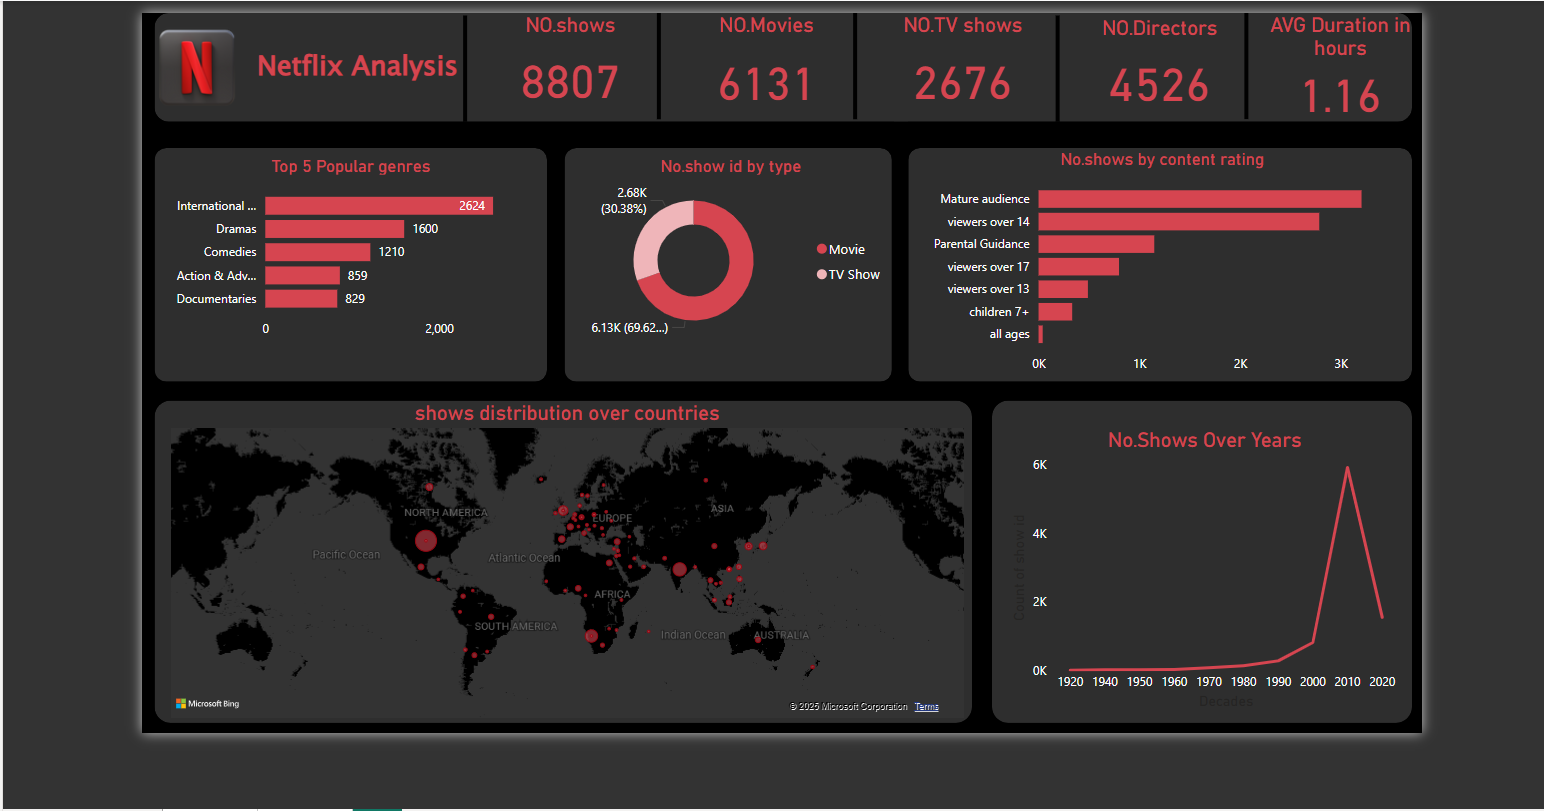

What the dashboard file says about the page in this screenshot:
{"tool":"powerbi","page":{"name":"Page 1","canvas":[1280,720],"ordinal":0},"visuals":[{"type":"shape","box":[12.5,0,1257.5,108.8],"z":0},{"type":"shape","box":[12.5,135,392.5,233.8],"z":1000},{"type":"shape","box":[422.5,135,327.5,233.8],"z":2000},{"type":"shape","box":[766.2,135,503.8,233.8],"z":3000},{"type":"shape","box":[12.5,387.5,817.5,322.5],"z":4000},{"type":"shape","box":[850,387.5,420,322.5],"z":5000},{"type":"image","box":[0,0,110,108.8],"z":6000},{"type":"textbox","box":[110,27.5,251.2,55],"z":7000},{"type":"shape","box":[311.2,2.5,23.8,106.2],"z":8000},{"type":"shape","box":[505,0,23.8,106.2],"z":9000},{"type":"shape","box":[701.2,0,23.8,106.2],"z":10000},{"type":"shape","box":[903.8,2.5,23.8,106.2],"z":11000},{"type":"shape","box":[1092.5,0,23.8,106.2],"z":12000},{"type":"card","title":"NO.shows ","fields":{"Values":["CountNonNull(netflix_titles.show id)"]},"box":[351.2,0,153.8,103.8],"z":13000},{"type":"card","title":"NO.Movies ","fields":{"Values":["netflix_titles.movie"]},"box":[547.5,0,153.8,108.8],"z":14000},{"type":"card","title":"NO.TV shows ","fields":{"Values":["netflix_titles.shows"]},"box":[737.5,0,166.2,106.2],"z":15000},{"type":"card","title":"AVG Duration in hours  ","fields":{"Values":["Avg(netflix_titles.duration in hours)"]},"box":[1116.2,0,163.8,108.8],"z":16000},{"type":"card","title":"NO.Directors ","fields":{"Values":["Count(netflix_titles.director)"]},"box":[945,2.5,145,106.2],"z":17000},{"type":"map","title":"shows distribution over  countries","fields":{"Category":["netflix_titles.country"],"Size":["CountNonNull(netflix_titles.show id)"]},"box":[23.8,387.5,802.5,322.5],"z":18000},{"type":"lineChart","title":"No.Shows Over Years ","fields":{"Y":["CountNonNull(netflix_titles.show id)"],"Category":["netflix_titles.Decades"]},"box":[863.8,415,397.5,286.2],"z":19000},{"type":"clusteredBarChart","title":"Top 5 Popular genres","fields":{"Category":["netflix_titles (2).genres"],"Y":["CountNonNull(netflix_titles (2).show_id)"]},"box":[12.5,142.5,392.5,191.2],"z":20000},{"type":"donutChart","title":" No.show id by type","fields":{"Category":["netflix_titles.type"],"Y":["CountNonNull(netflix_titles.show id)"]},"box":[425,142.5,327.5,191.2],"z":21000},{"type":"barChart","title":"No.shows  by content rating","fields":{"Category":["netflix_titles.content rating"],"Y":["CountNonNull(netflix_titles.show id)"]},"box":[778.8,136.2,482.5,232.5],"z":22000}]}

Visuals, with their boxes on the page's 1280x720 design canvas (x1, y1, x2, y2). These are canvas units, not pixel positions in the 1544x811 screenshot, which may show the page scaled, cropped or inside an application window:
shape: 12, 0, 1270, 109
shape: 12, 135, 405, 369
shape: 422, 135, 750, 369
shape: 766, 135, 1270, 369
shape: 12, 388, 830, 710
shape: 850, 388, 1270, 710
image: 0, 0, 110, 109
textbox: 110, 28, 361, 82
shape: 311, 2, 335, 109
shape: 505, 0, 529, 106
shape: 701, 0, 725, 106
shape: 904, 2, 928, 109
shape: 1092, 0, 1116, 106
"NO.shows " card: 351, 0, 505, 104
"NO.Movies " card: 548, 0, 701, 109
"NO.TV shows " card: 738, 0, 904, 106
"AVG Duration in hours  " card: 1116, 0, 1280, 109
"NO.Directors " card: 945, 2, 1090, 109
"shows distribution over  countries" map: 24, 388, 826, 710
"No.Shows Over Years " lineChart: 864, 415, 1261, 701
"Top 5 Popular genres" clusteredBarChart: 12, 142, 405, 334
" No.show id by type" donutChart: 425, 142, 752, 334
"No.shows  by content rating" barChart: 779, 136, 1261, 369
